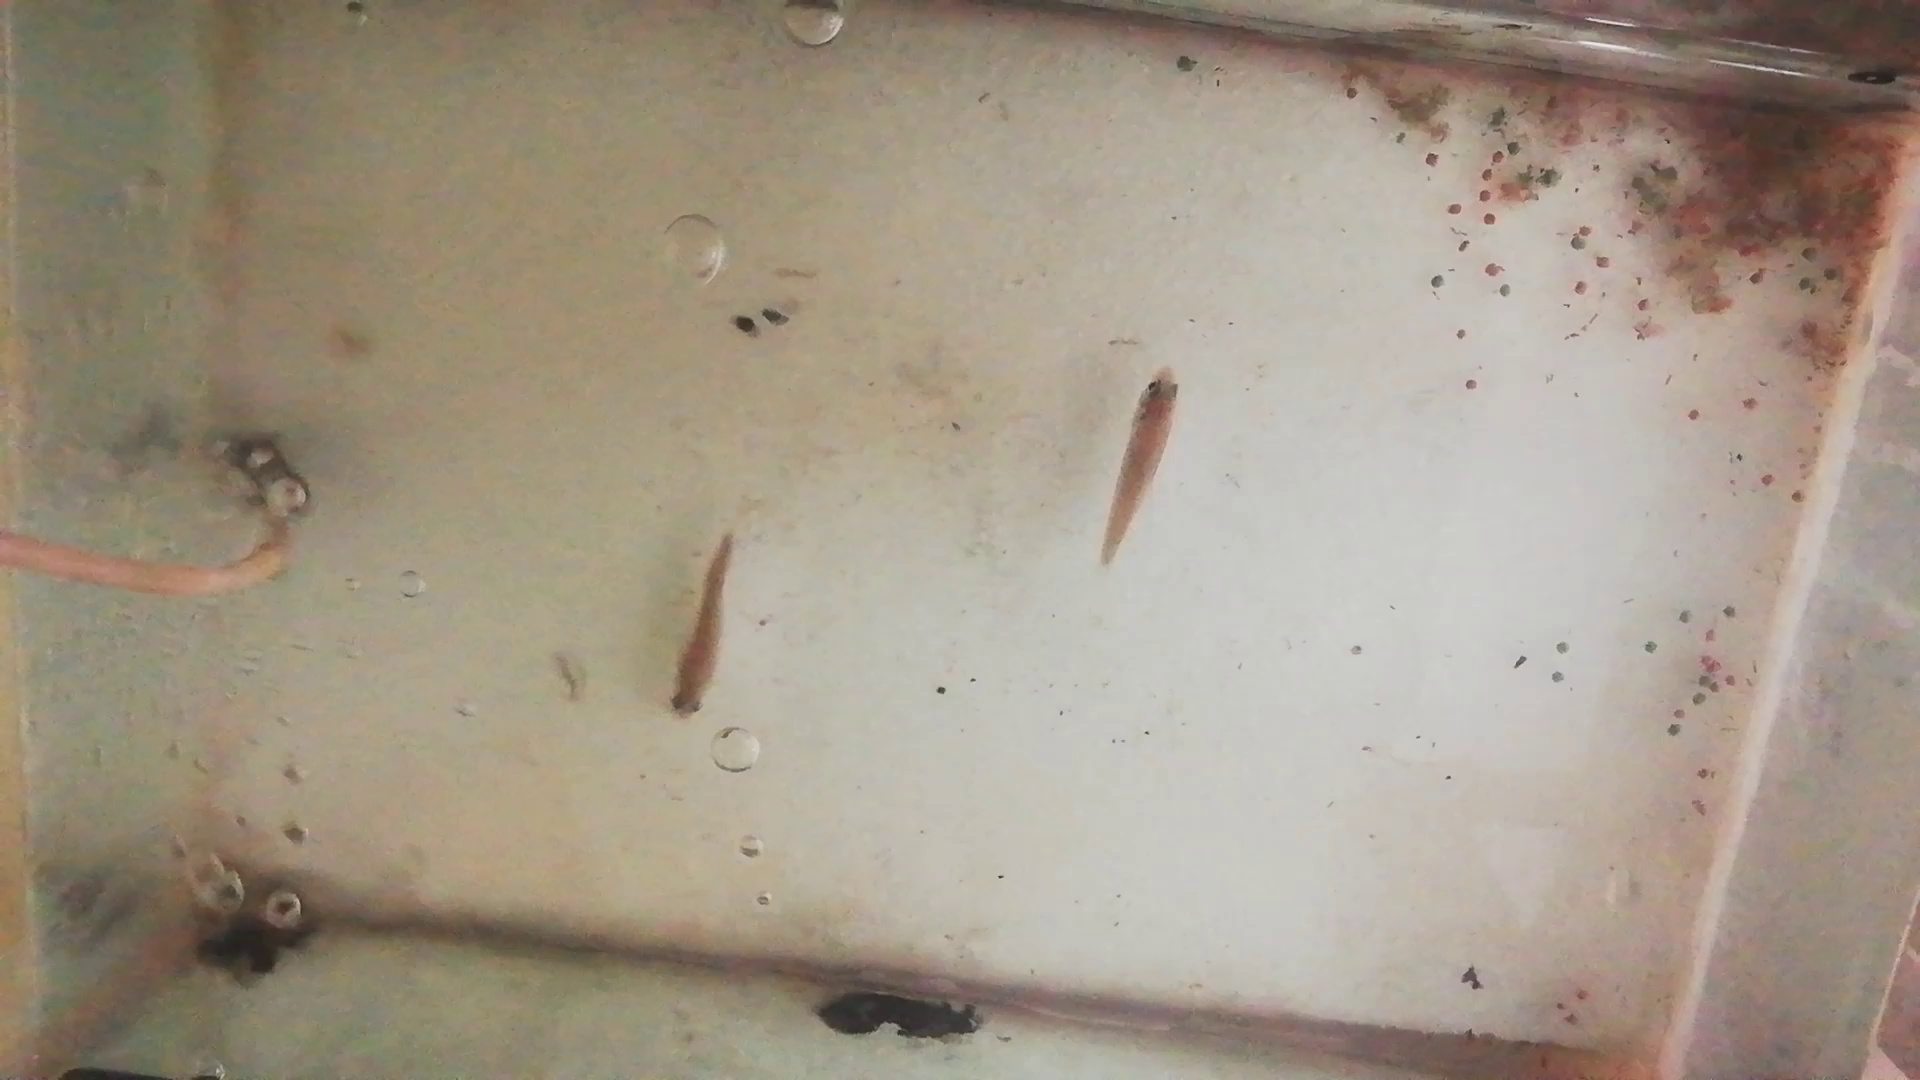fish: (1102, 363, 1182, 570), (671, 531, 733, 720)
